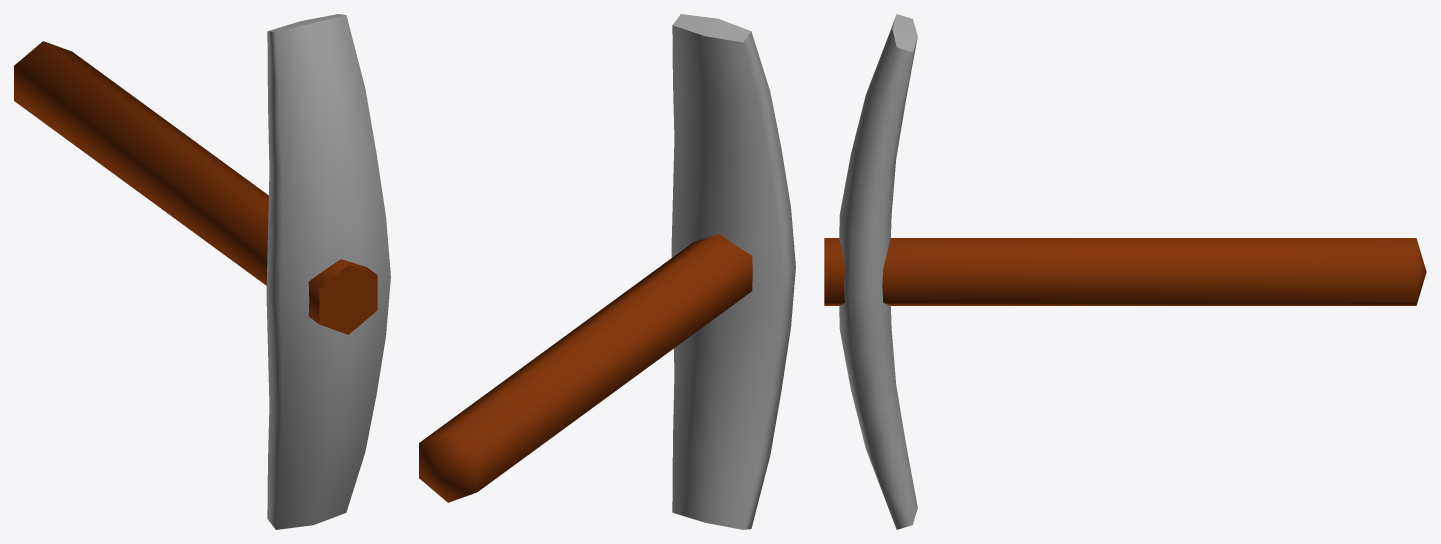
The model's file is miner_pickaxe.sapphire.obj.
The picture shows the model from 3 angles, left to right: view 1: azimuth 30°, elevation 25°; view 2: azimuth 150°, elevation 25°; view 3: azimuth 270°, elevation 25°; orthographic projection. The views are drawn at different scales.
Parts seen in each view (by area): view 1: PickAxe_Cylinder; view 2: PickAxe_Cylinder; view 3: PickAxe_Cylinder.
Boxes of the visible parts, box(x1,y1,x2,y2) form: PickAxe_Cylinder: box(14, 14, 390, 529); PickAxe_Cylinder: box(419, 14, 795, 529); PickAxe_Cylinder: box(824, 14, 1426, 529).
Bounding box in the file's own units: 0.0992 × 0.4283 × 0.4803.
